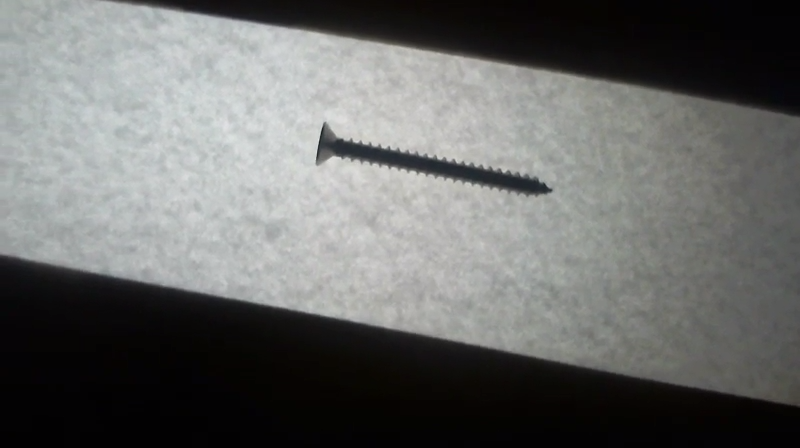S002: (312, 120, 556, 199)
